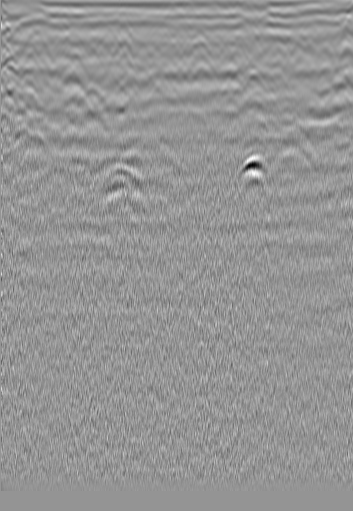가스: (234, 151, 273, 182)
상수: (20, 37, 40, 57)
오수: (300, 31, 320, 51)
우수: (114, 29, 134, 49)
